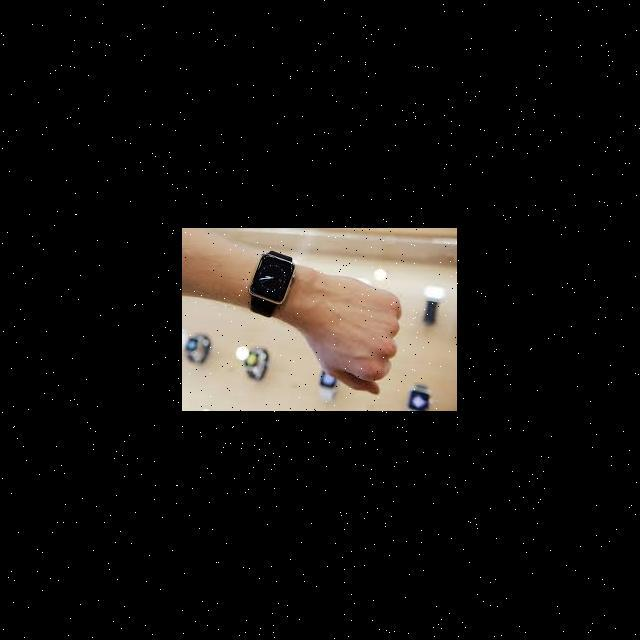watch: (240, 240, 297, 342)
